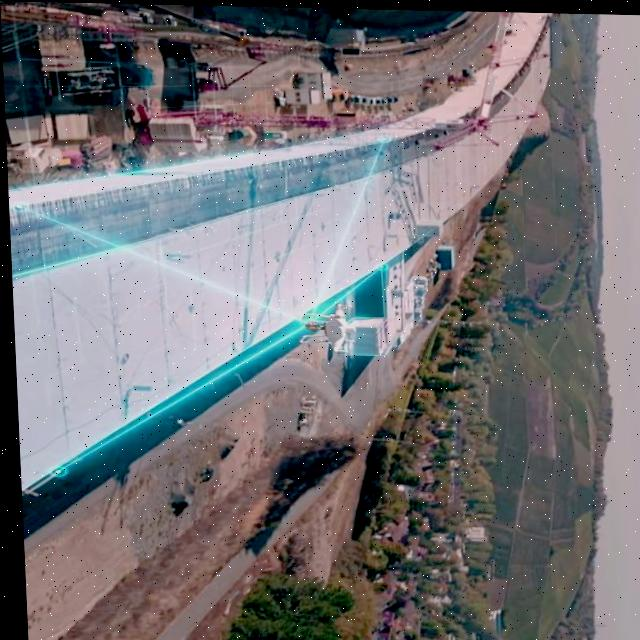drone: (293, 288, 357, 361)
